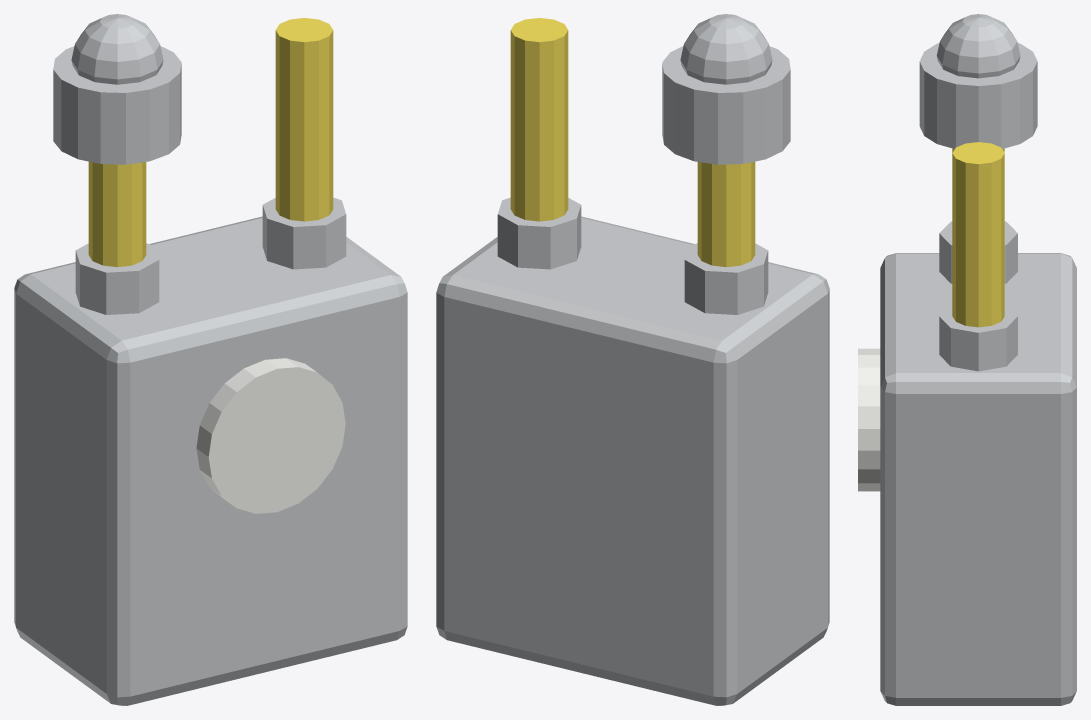
File: gas-meter.glb
3 renders of one model, left to right at view 1: azimuth 30°, elevation 25°; view 2: azimuth 150°, elevation 25°; view 3: azimuth 270°, elevation 25°, orthographic. The views are drawn at different scales.
Visible parts, largest first — view 1: gas-meter_gm-grey, gas-meter_gm-dial, gas-meter_gm-yellow; view 2: gas-meter_gm-grey, gas-meter_gm-yellow; view 3: gas-meter_gm-grey, gas-meter_gm-yellow, gas-meter_gm-dial.
Boxes of the visible parts, <box> form: gas-meter_gm-grey: <box>14,14,407,705</box>; gas-meter_gm-dial: <box>196,358,345,513</box>; gas-meter_gm-yellow: <box>88,18,333,267</box>; gas-meter_gm-grey: <box>436,14,829,705</box>; gas-meter_gm-yellow: <box>510,18,755,267</box>; gas-meter_gm-grey: <box>880,14,1076,705</box>; gas-meter_gm-yellow: <box>952,142,1004,327</box>; gas-meter_gm-dial: <box>858,348,880,491</box>.
Bounding box in the file's own units: 0.24 × 0.494 × 0.167.
